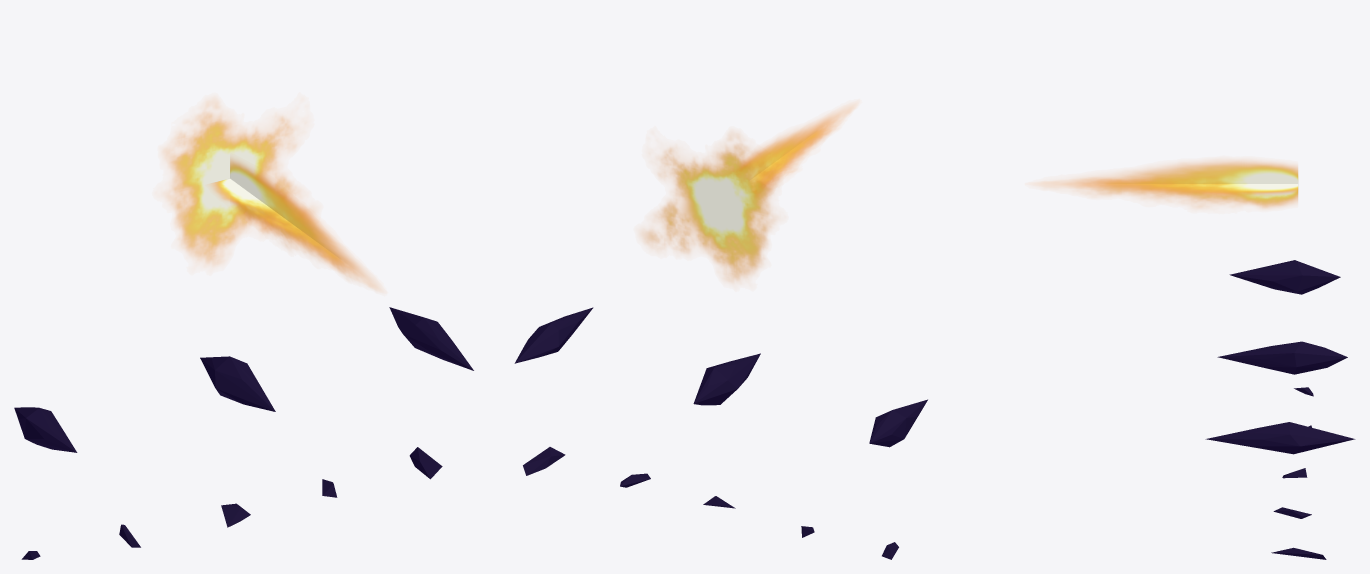
The model's file is nightstone-blaster-fx.glb.
3 views of the same model, side by side, from view 1: azimuth 30°, elevation 25°; view 2: azimuth 150°, elevation 25°; view 3: azimuth 270°, elevation 25° (orthographic). The views are drawn at different scales.
Visible parts, largest first — view 1: fx_muzzle_flash_cards, fx_shard_b, fx_shard_c, fx_shard_a; view 2: fx_muzzle_flash_cards, fx_shard_b, fx_shard_c, fx_shard_a, fx_fragment_4; view 3: fx_muzzle_flash_cards, fx_shard_c, fx_shard_b, fx_shard_a.
Part boxes in pixels (x1,y1,x2,y2): fx_muzzle_flash_cards: (163, 101, 379, 289); fx_shard_b: (200, 356, 275, 411); fx_shard_c: (389, 307, 473, 370); fx_shard_a: (14, 407, 77, 452); fx_muzzle_flash_cards: (641, 105, 854, 282); fx_shard_b: (693, 353, 760, 405); fx_shard_c: (514, 307, 593, 363); fx_shard_a: (869, 399, 927, 447); fx_fragment_4: (523, 447, 565, 475); fx_muzzle_flash_cards: (1038, 160, 1298, 208); fx_shard_c: (1205, 422, 1355, 454); fx_shard_b: (1217, 341, 1347, 374); fx_shard_a: (1229, 260, 1340, 294).
Bounding box in the file's own units: 0.2603 × 0.2845 × 0.2357.
Materials: 2 (1 with a texture image).
